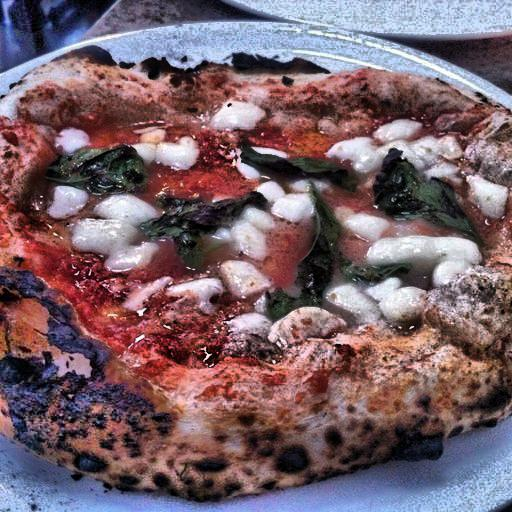pizza: (1, 38, 512, 495)
